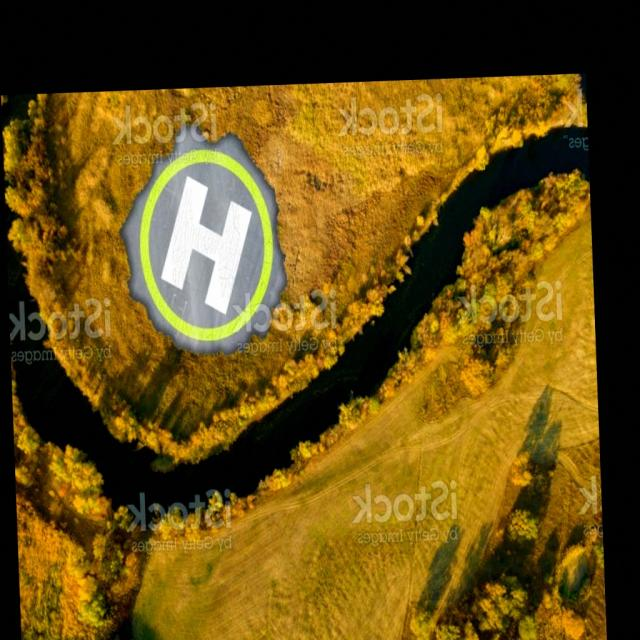helipad: (132, 143, 278, 346)
